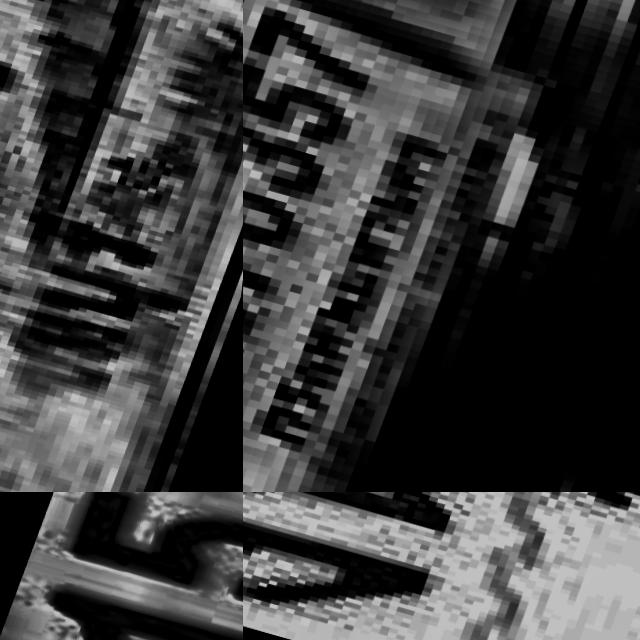license-plate: (243, 0, 640, 492), (0, 0, 243, 492), (243, 492, 640, 640), (0, 492, 243, 640)
